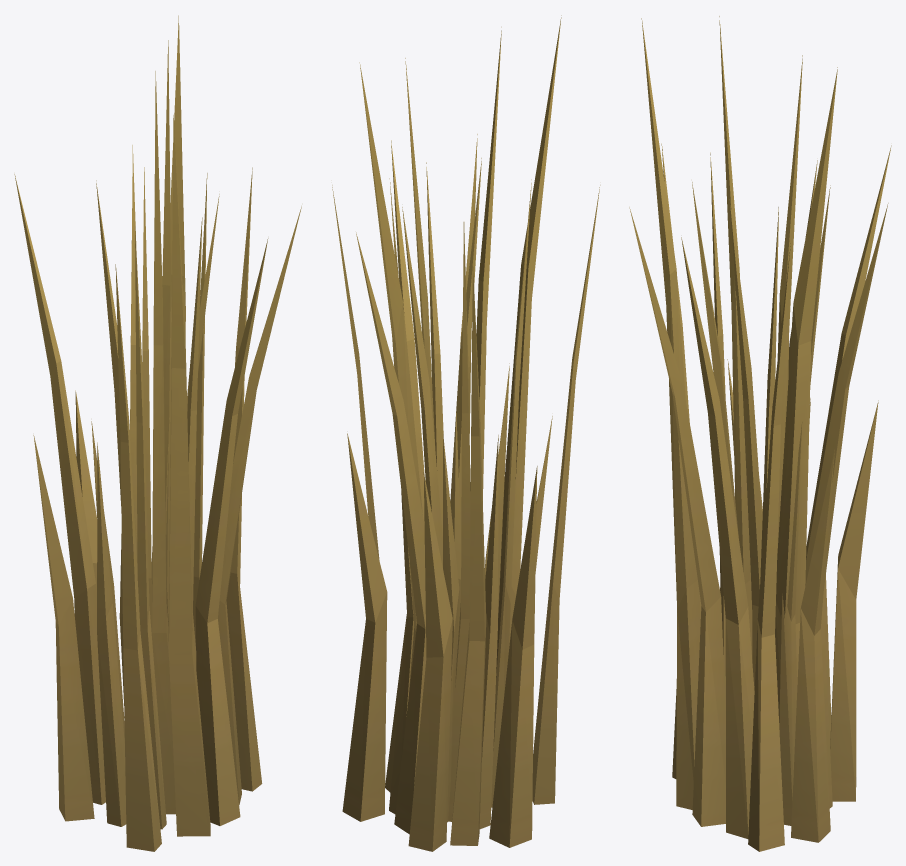
The model's file is tallgrass_a.glb.
3 renders of one model, left to right at view 1: azimuth 30°, elevation 25°; view 2: azimuth 150°, elevation 25°; view 3: azimuth 270°, elevation 25°, orthographic.
Parts seen in each view (by area): view 1: GrassHigh_A_4; view 2: GrassHigh_A_4; view 3: GrassHigh_A_4.
Boxes of the visible parts, x1,y1,x2,y2 form: GrassHigh_A_4: (14,15,301,851); GrassHigh_A_4: (332,15,600,851); GrassHigh_A_4: (629,16,891,851).
Bounding box in the file's own units: 0.2745 × 0.95 × 0.292.
1 material, 1 textured.
